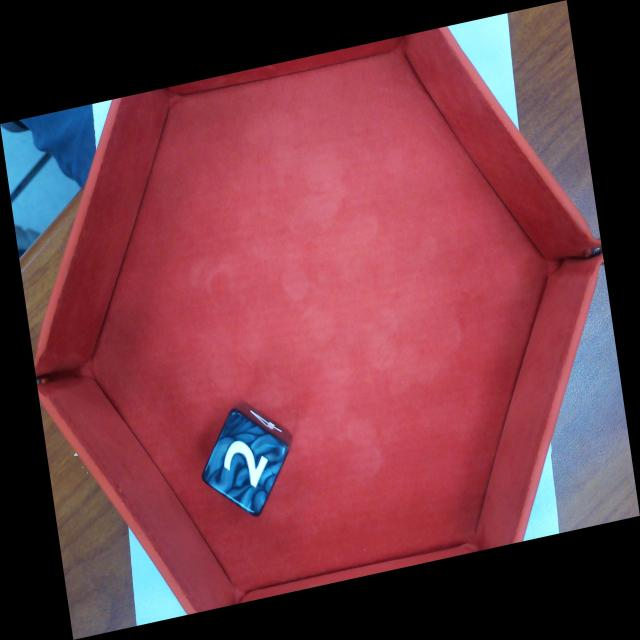dice: (202, 409, 290, 517)
